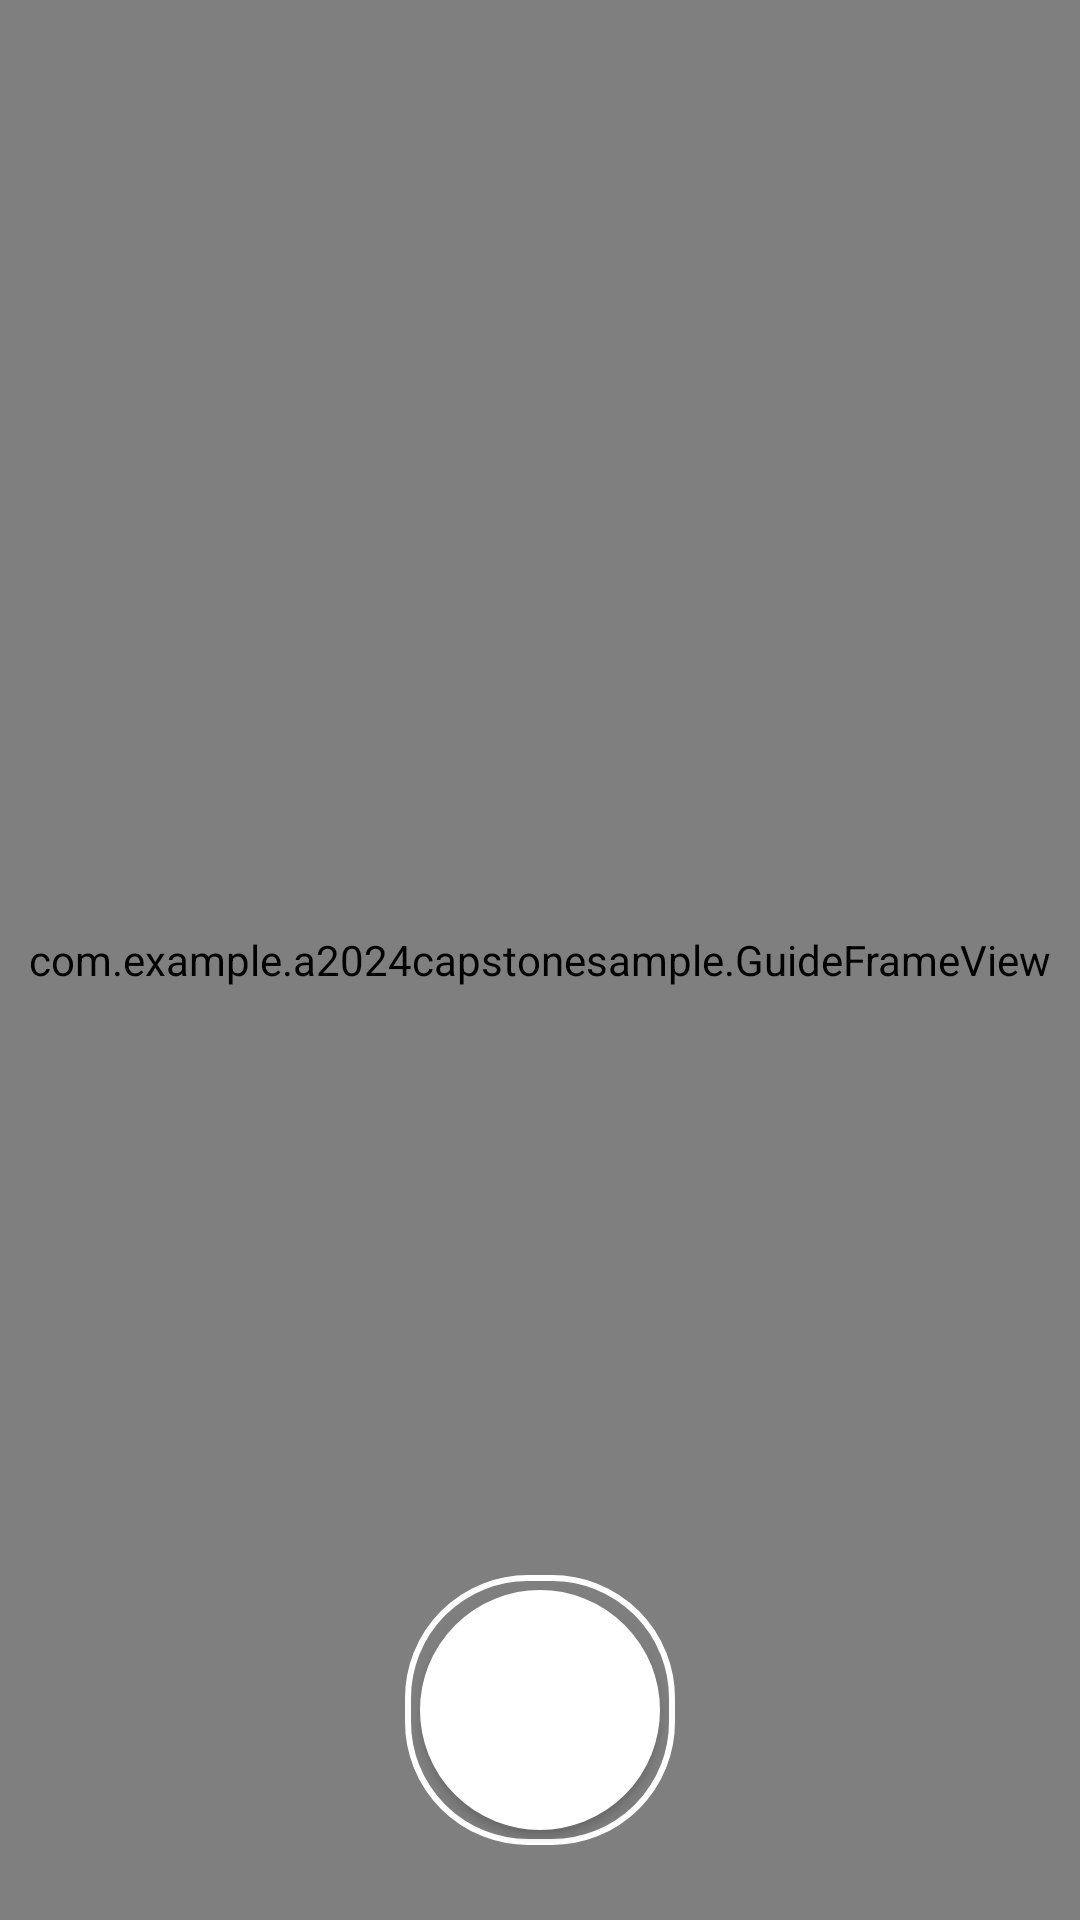

Icons on this 1080 × 1920 Android screen, each with the point to tap as (x=x, y=y):
ring: (x=540, y=1710)
